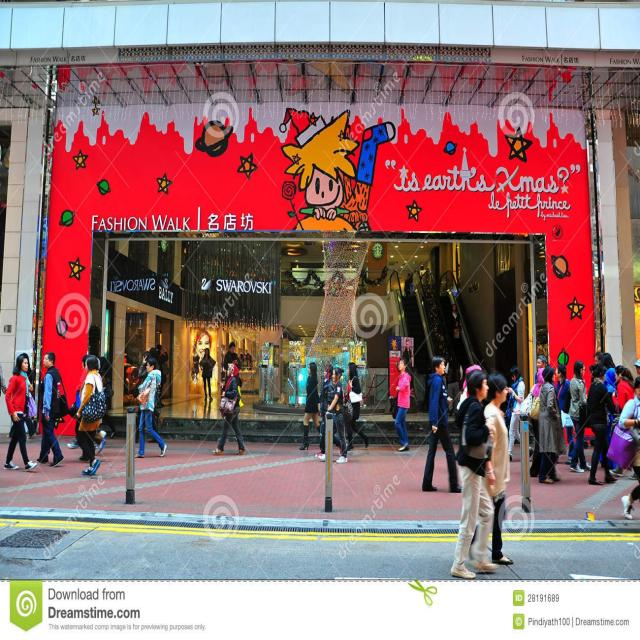body: (449, 367, 501, 580), (286, 136, 366, 236), (482, 372, 516, 567), (420, 354, 466, 494), (585, 361, 622, 487), (1, 353, 39, 472), (74, 353, 109, 478), (34, 350, 70, 468), (528, 365, 563, 485), (132, 356, 168, 459), (317, 366, 354, 465), (616, 374, 640, 521), (609, 364, 639, 481), (211, 362, 247, 458), (518, 366, 546, 478), (314, 362, 343, 459), (506, 365, 535, 462), (568, 358, 592, 474), (6, 353, 37, 440), (135, 351, 164, 443), (298, 361, 323, 451), (67, 355, 90, 450), (346, 361, 370, 452), (554, 363, 575, 464), (393, 357, 412, 452), (98, 356, 118, 440), (455, 362, 483, 414), (149, 342, 170, 406), (198, 346, 217, 403), (592, 351, 619, 388), (222, 340, 242, 388), (389, 334, 416, 366), (447, 302, 462, 353), (192, 328, 212, 357), (533, 354, 547, 377), (189, 356, 198, 385), (238, 352, 252, 370), (402, 272, 412, 296), (0, 362, 7, 396), (632, 358, 640, 377)
